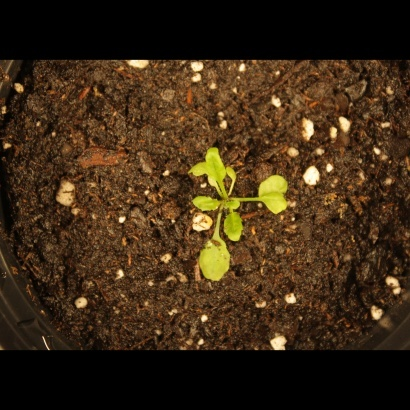leaf: (198, 233, 233, 288), (203, 144, 228, 186), (251, 175, 294, 199), (223, 208, 249, 246), (255, 194, 295, 217), (190, 191, 220, 219), (186, 155, 214, 183), (222, 165, 245, 188)
